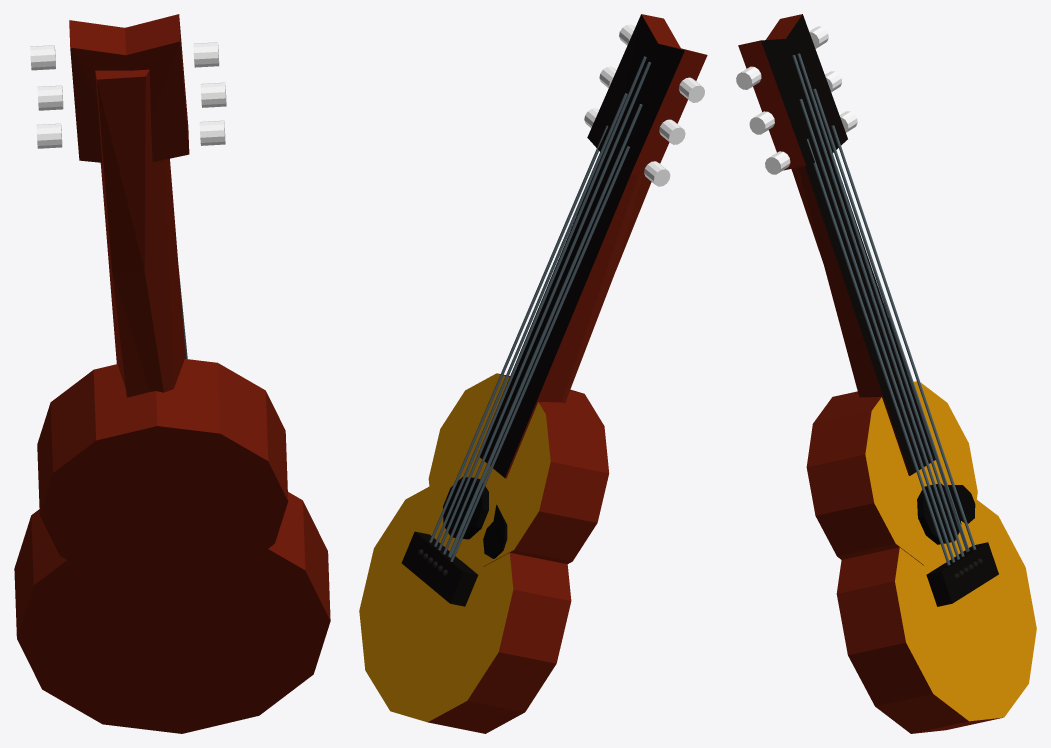
Rendered from guitar1.fbx.
3 renders of one model, left to right at view 1: azimuth 30°, elevation 25°; view 2: azimuth 150°, elevation 25°; view 3: azimuth 270°, elevation 25°, orthographic. The views are drawn at different scales.
Parts seen in each view (by area): view 1: 5vt3085xJxP_0_0_0, 5vt3085xJxP_1_0_0; view 2: 5vt3085xJxP_0_0_0, 5vt3085xJxP_1_0_0; view 3: 5vt3085xJxP_0_0_0, 5vt3085xJxP_1_0_0.
Part boxes in pixels (box(x1,y1,x2,y2)): 5vt3085xJxP_0_0_0: box(14, 14, 330, 733); 5vt3085xJxP_1_0_0: box(30, 42, 226, 148); 5vt3085xJxP_0_0_0: box(359, 14, 707, 733); 5vt3085xJxP_1_0_0: box(584, 24, 704, 186); 5vt3085xJxP_0_0_0: box(738, 14, 1036, 733); 5vt3085xJxP_1_0_0: box(736, 26, 857, 174).
Bounding box in the file's own units: 0.112 × 0.25 × 0.1059.
